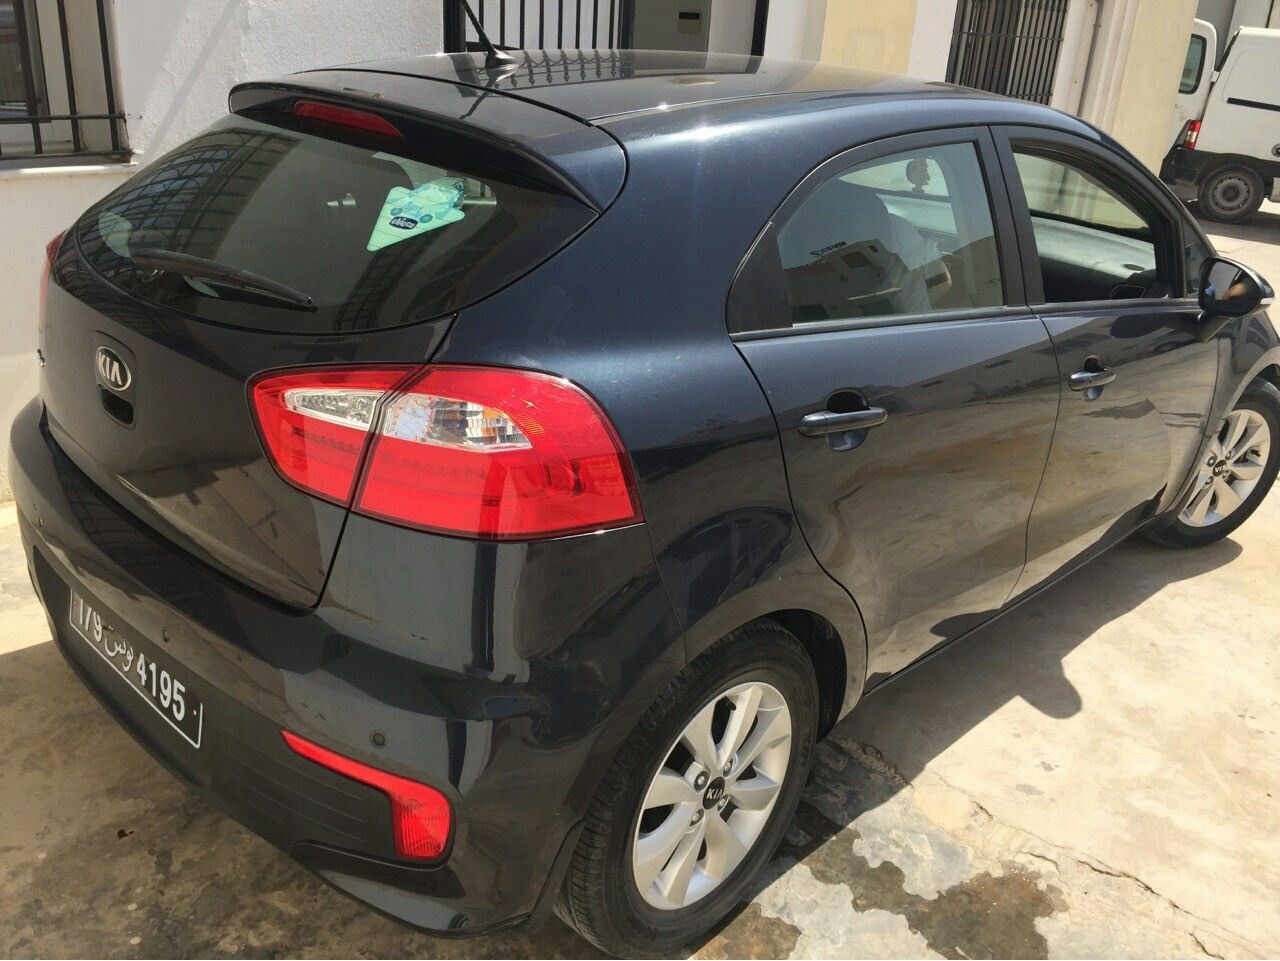LP: (67, 565, 206, 752)
